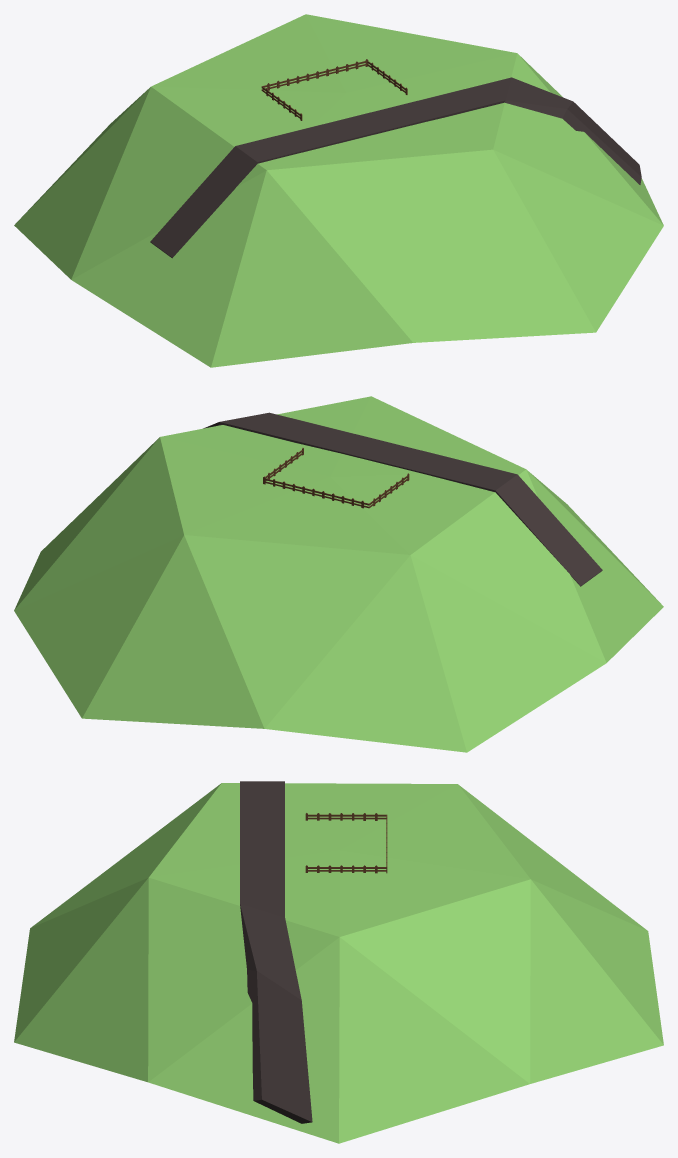
The model's file is World.glb.
3 views of the same model, one above another, from view 1: azimuth 30°, elevation 25°; view 2: azimuth 150°, elevation 25°; view 3: azimuth 270°, elevation 25° (orthographic). The views are drawn at different scales.
Parts seen in each view (by area): view 1: Earth, Plane, Freace; view 2: Earth, Plane, Freace; view 3: Earth, Plane, Freace.
Part boxes in pixels (<box>): Earth: <box>14,14,663,367</box>; Plane: <box>150,77,641,258</box>; Freace: <box>261,59,407,120</box>; Earth: <box>14,396,663,752</box>; Plane: <box>203,412,602,586</box>; Freace: <box>263,448,409,508</box>; Earth: <box>14,783,663,1143</box>; Plane: <box>240,781,312,1123</box>; Freace: <box>305,813,387,873</box>.
Bounding box in the file's own units: 176 × 45.83 × 172.
